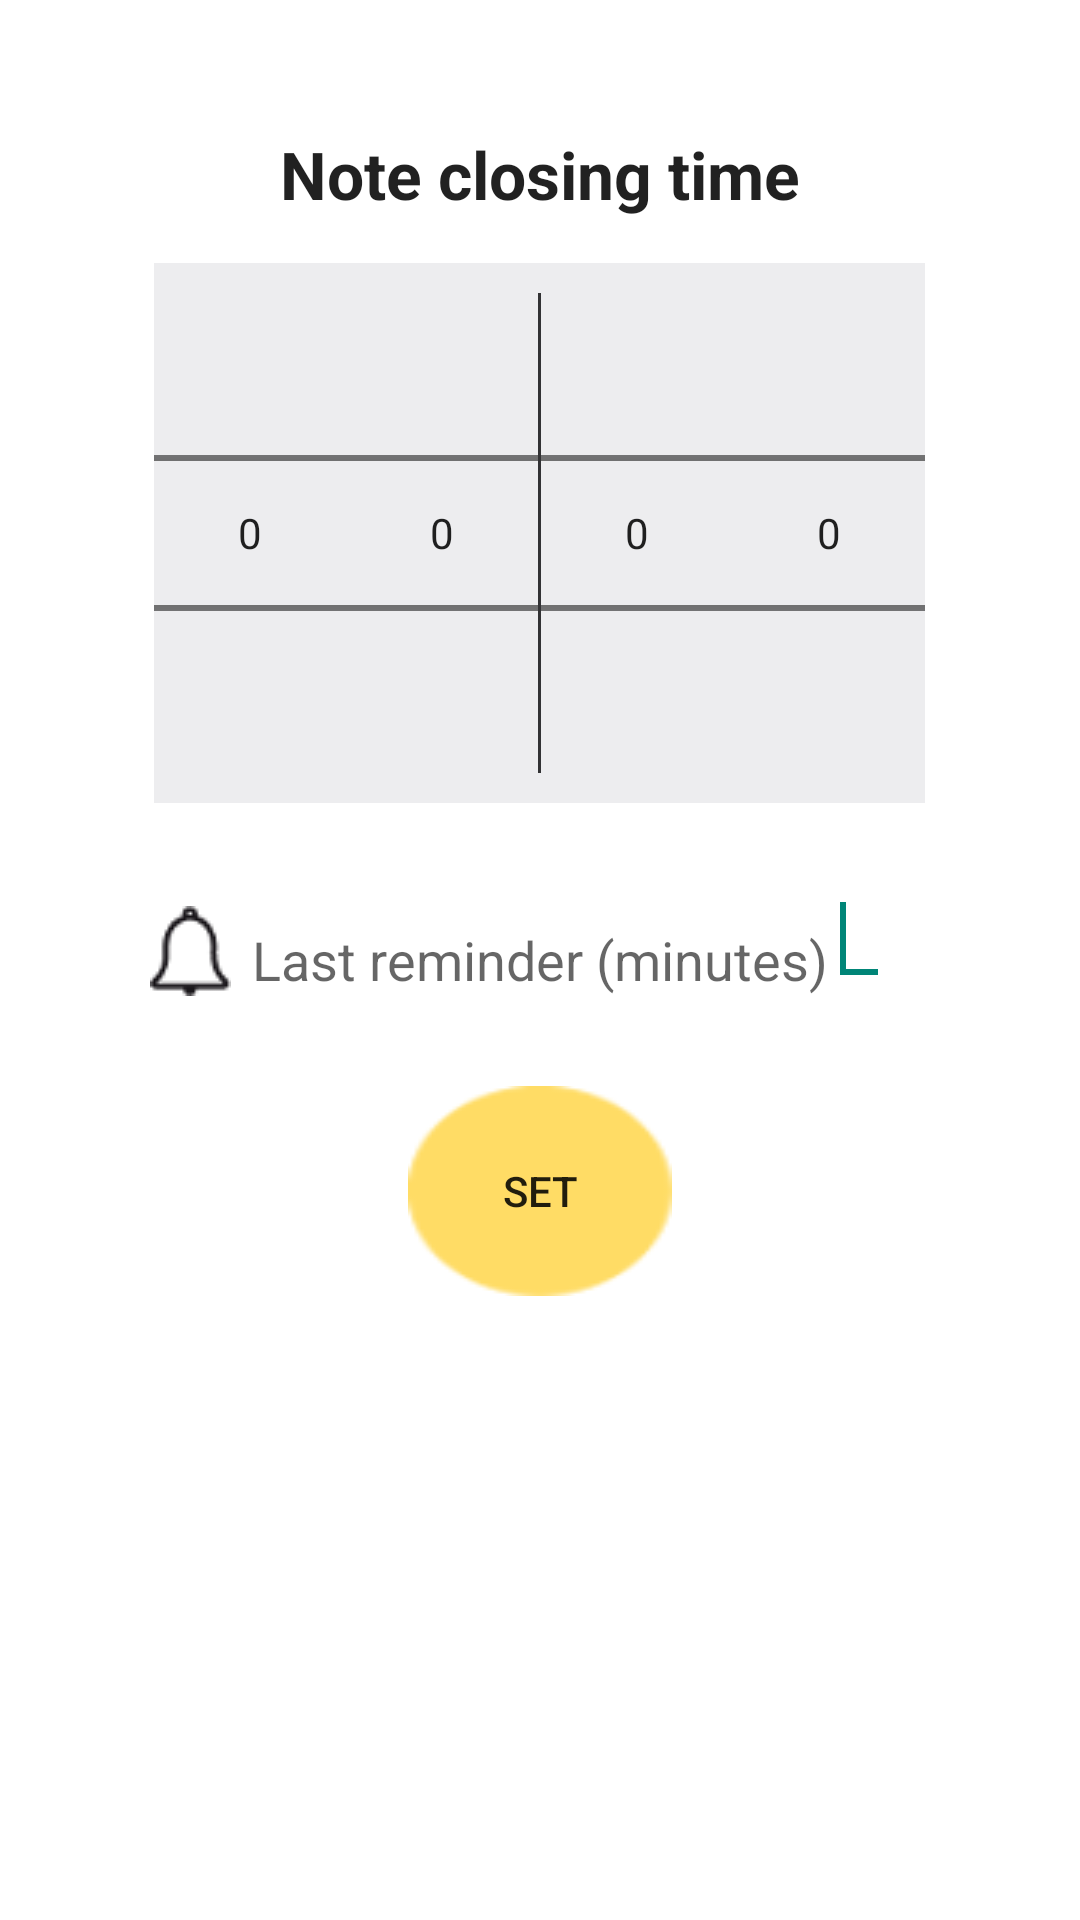

Locate icon controls on the screen. Image size 1080x1920, boxes as (x1, y1, x2, y2).
Bell: (150, 906, 231, 996)
